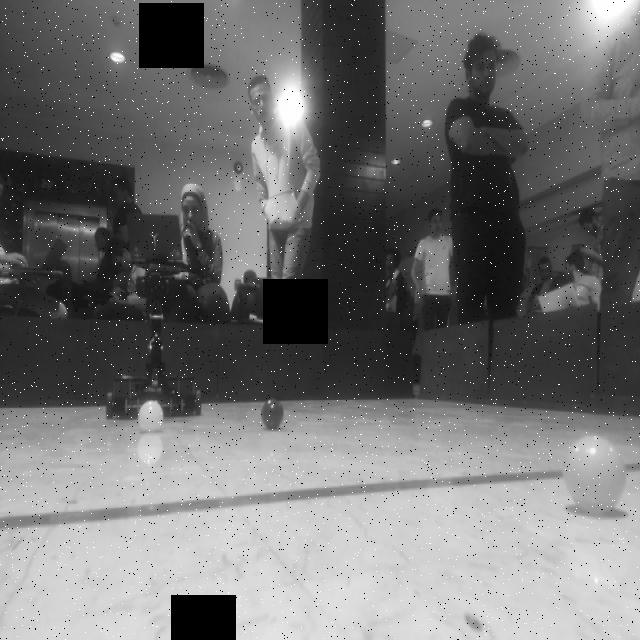ball: (565, 428, 626, 517), (135, 398, 167, 435), (258, 395, 288, 432)
